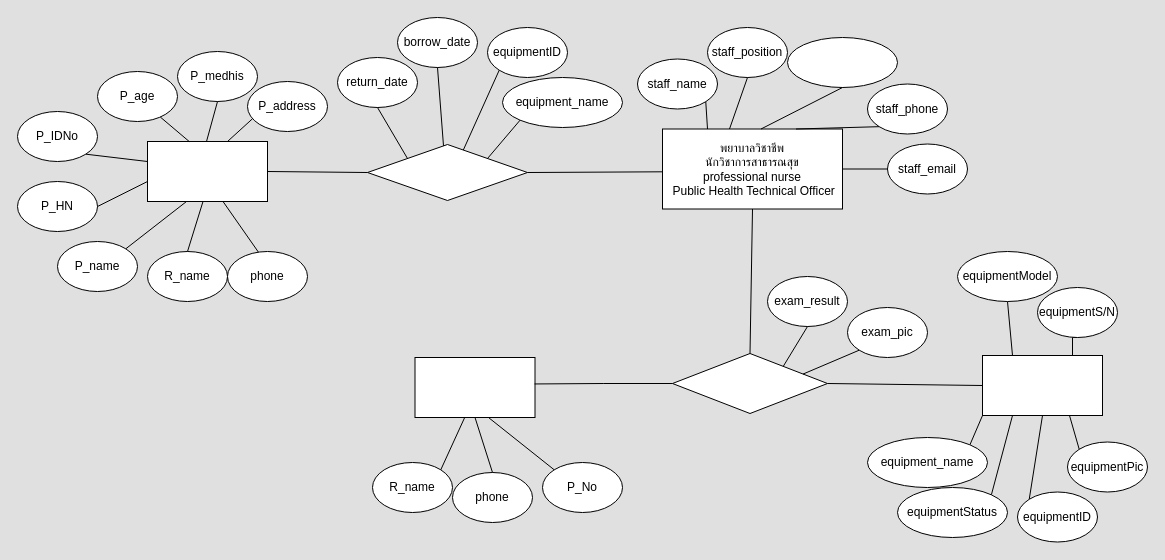
The diagram is 1165 pixels wide and 560 high, and some of its shapes have lost their labels. The shapes that lost their labels are listed below. From the top down, each one's centre as x and y in pixels, then its label:
At (842,62): "staff_department".
At (207,171): "ญาติผู้ป่วย รพสต Patient Relative from HPH".
At (447,172): "ลงทะเบียนยืม Register contract".
At (474,387): "ญาติผู้ป่วย รพ อื่นๆ Patient Relative from Hospital".
At (750,383): "ประเมินผู้ป่วย Examiation patient".
At (1042,385): "อุปกรณ์ทางการแพทย์ medical equipment".
